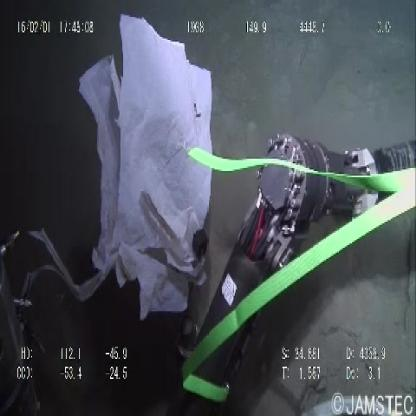Rov: (184, 127, 416, 405)
Rác: (79, 12, 217, 322)
